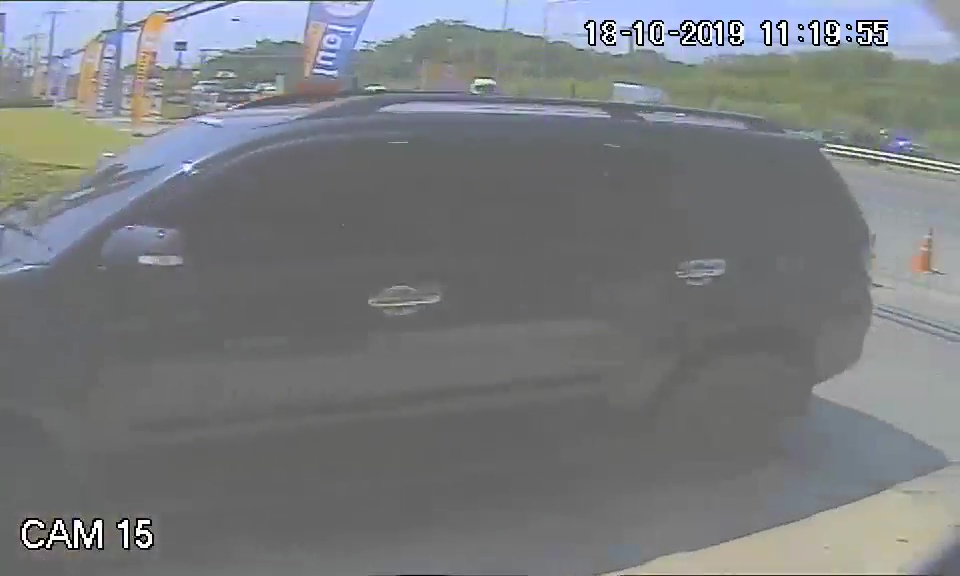pickup: (1, 82, 878, 502)
